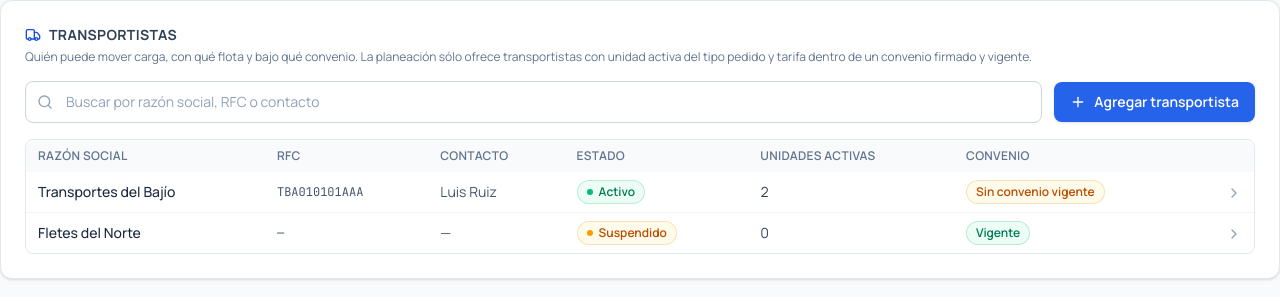
Scenario: TransportistasTab › filters the list by razón social, RFC or contacto
Expected: the text "Transportes del Bajío" is shown, [26,172,265,212]
Step 1. Type "norte" into the field with placeholder "Buscar por razón social, RFC o contacto" → (534,102), box [25,81,1042,123]
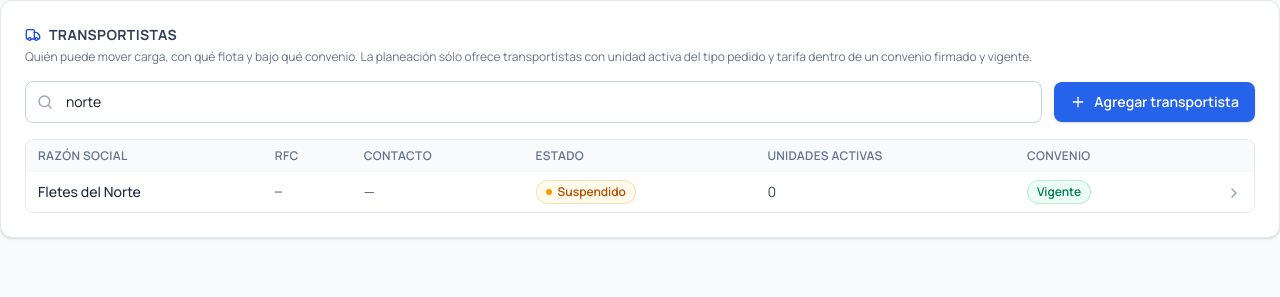
Expected: the text "Fletes del Norte" is shown, [26,172,263,212]
Now the text "Transportes del Bajío" is gone
